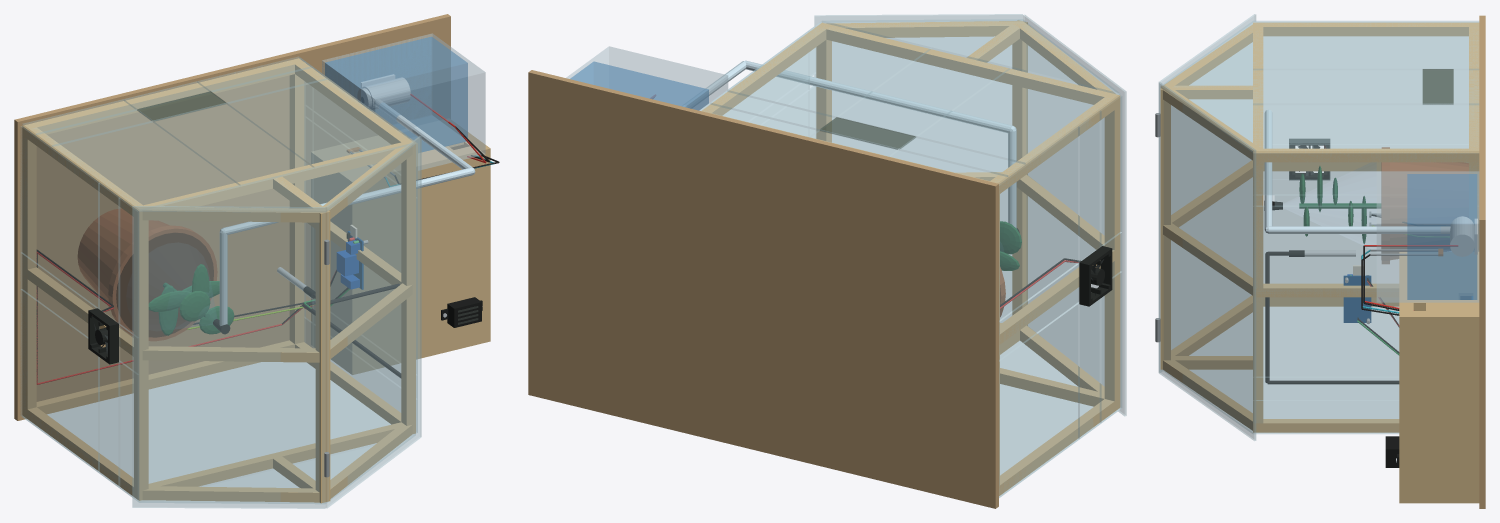
The model's file is maqueta-completa.obj.
The picture shows the model from 3 angles, left to right: view 1: azimuth 30°, elevation 25°; view 2: azimuth 150°, elevation 25°; view 3: azimuth 270°, elevation 25°; orthographic projection. The views are drawn at different scales.
Visible parts, largest first — view 1: Techo_(acrílico), Base_MDF_6_mm, Estructura_de_balso_10x10, Pared_izquierda_(acrílico), Pared_de_fondo_(acrílico), Pared_frontal_(acrílico), Caja:_tapa, Pared_derecha_(acrílico), Tanque_(recipiente_1_L), Agua, Frontón_(acrílico), Maceta (+12 smaller); view 2: Base_MDF_6_mm, Pared_izquierda_(acrílico), Techo_(acrílico), Pared_de_fondo_(acrílico), Estructura_de_balso_10x10, Frontón_(acrílico), Tanque_(recipiente_1_L), Pared_frontal_(acrílico), Pared_derecha_(acrílico), Manguera_de_silicona, Agua, Ventilador_40x40_(marco) (+2 smaller); view 3: Pared_derecha_(acrílico), Techo_(acrílico), Estructura_de_balso_10x10, Pared_de_fondo_(acrílico), Pared_izquierda_(acrílico), Caja:_lateral_derecho, Tanque_(recipiente_1_L), Pared_frontal_(acrílico), Agua, Frontón_(acrílico), Maceta, Caja:_fondo (+11 smaller).
Part boxes in pixels (left/top/right/bottom): Techo_(acrílico): left=132, top=136, right=421, bottom=508; Base_MDF_6_mm: left=14, top=14, right=450, bottom=420; Estructura_de_balso_10x10: left=22, top=58, right=415, bottom=503; Pared_izquierda_(acrílico): left=20, top=126, right=138, bottom=500; Pared_de_fondo_(acrílico): left=22, top=56, right=414, bottom=206; Pared_frontal_(acrílico): left=23, top=362, right=390, bottom=501; Caja:_tapa: left=351, top=147, right=490, bottom=374; Pared_derecha_(acrílico): left=300, top=58, right=417, bottom=432; Tanque_(recipiente_1_L): left=322, top=33, right=485, bottom=170; Agua: left=325, top=36, right=467, bottom=152; Frontón_(acrílico): left=140, top=143, right=415, bottom=503; Maceta: left=77, top=208, right=217, bottom=341; Base_MDF_6_mm: left=528, top=70, right=998, bottom=508; Pared_izquierda_(acrílico): left=999, top=95, right=1121, bottom=497; Techo_(acrílico): left=814, top=14, right=1126, bottom=416; Pared_de_fondo_(acrílico): left=699, top=21, right=1119, bottom=183; Estructura_de_balso_10x10: left=701, top=20, right=1120, bottom=495; Frontón_(acrílico): left=822, top=19, right=1119, bottom=385; Tanque_(recipiente_1_L): left=566, top=46, right=728, bottom=110; Pared_frontal_(acrílico): left=999, top=384, right=1119, bottom=497; Pared_derecha_(acrílico): left=700, top=23, right=819, bottom=138; Manguera_de_silicona: left=682, top=60, right=1016, bottom=228; Agua: left=570, top=61, right=708, bottom=110; Ventilador_40x40_(marco): left=1079, top=246, right=1112, bottom=306; Pared_derecha_(acrílico): left=1253, top=153, right=1478, bottom=432; Techo_(acrílico): left=1158, top=14, right=1256, bottom=440; Estructura_de_balso_10x10: left=1160, top=22, right=1479, bottom=432; Pared_de_fondo_(acrílico): left=1253, top=21, right=1479, bottom=152; Pared_izquierda_(acrílico): left=1254, top=22, right=1478, bottom=283; Caja:_lateral_derecho: left=1402, top=316, right=1479, bottom=503; Tanque_(recipiente_1_L): left=1376, top=171, right=1479, bottom=302; Pared_frontal_(acrílico): left=1256, top=307, right=1398, bottom=433; Agua: left=1407, top=174, right=1477, bottom=299; Frontón_(acrílico): left=1161, top=21, right=1252, bottom=433; Maceta: left=1381, top=147, right=1468, bottom=263; Caja:_fondo: left=1402, top=252, right=1479, bottom=319.
Bounding box in the file's own units: 477 × 312 × 321.
